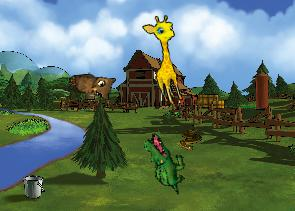crocodile: (130, 130, 199, 196)
giraffe: (140, 12, 194, 107)
owl: (68, 72, 116, 103)
